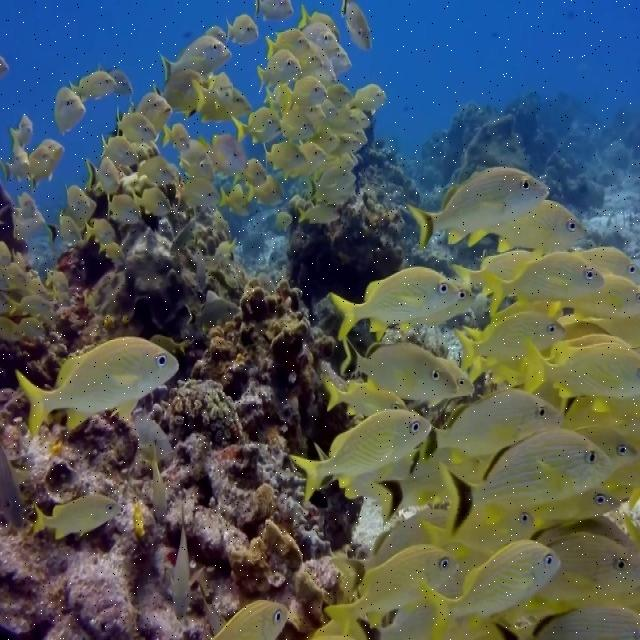fish: (48, 215, 288, 639), (424, 426, 639, 638), (17, 336, 181, 441), (423, 540, 561, 638), (289, 412, 432, 502), (504, 530, 637, 620), (410, 169, 552, 248), (326, 543, 456, 629), (423, 386, 568, 459), (328, 267, 460, 342), (524, 338, 639, 403), (485, 252, 604, 313), (341, 341, 457, 402), (456, 313, 563, 371), (497, 204, 590, 252), (34, 495, 122, 537), (162, 34, 231, 81), (186, 83, 251, 123), (0, 294, 48, 341), (154, 71, 206, 113), (172, 520, 190, 618), (201, 133, 244, 173), (258, 49, 301, 87), (282, 78, 324, 116), (1, 451, 22, 525), (127, 93, 171, 128), (341, 1, 371, 50), (55, 87, 86, 133), (312, 164, 357, 195), (233, 110, 279, 140), (285, 144, 325, 175), (265, 29, 309, 57), (302, 22, 337, 57), (180, 141, 212, 179), (27, 144, 54, 189), (265, 140, 304, 171), (197, 291, 237, 321), (117, 110, 153, 143), (72, 69, 114, 97), (344, 84, 386, 112), (103, 136, 139, 166), (278, 109, 311, 141), (137, 155, 173, 184), (181, 178, 218, 206), (133, 188, 171, 215), (226, 13, 259, 44), (234, 159, 267, 190), (138, 414, 168, 448), (104, 194, 139, 222), (87, 158, 118, 189), (2, 149, 29, 182), (10, 115, 33, 151), (150, 457, 163, 520), (299, 204, 340, 223), (13, 192, 36, 217), (43, 137, 63, 161), (21, 317, 44, 334)
